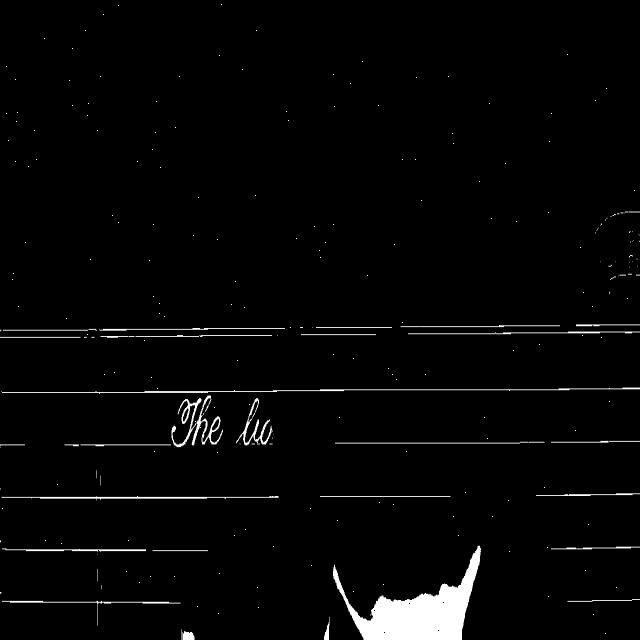hand: (333, 546, 480, 639), (324, 617, 330, 639), (181, 631, 194, 639)
noise: (232, 385, 640, 393), (0, 327, 286, 338), (0, 492, 279, 501), (400, 324, 640, 334), (334, 439, 640, 445), (0, 388, 228, 394), (299, 326, 394, 336), (0, 600, 133, 607), (320, 494, 450, 499), (536, 492, 640, 498), (551, 545, 640, 552), (567, 596, 640, 604), (60, 443, 134, 447), (155, 548, 208, 552), (136, 600, 180, 604), (134, 443, 172, 446), (0, 443, 28, 447)
not-noise: (170, 395, 224, 447), (236, 398, 273, 444)
page-marker: (596, 212, 640, 279)
